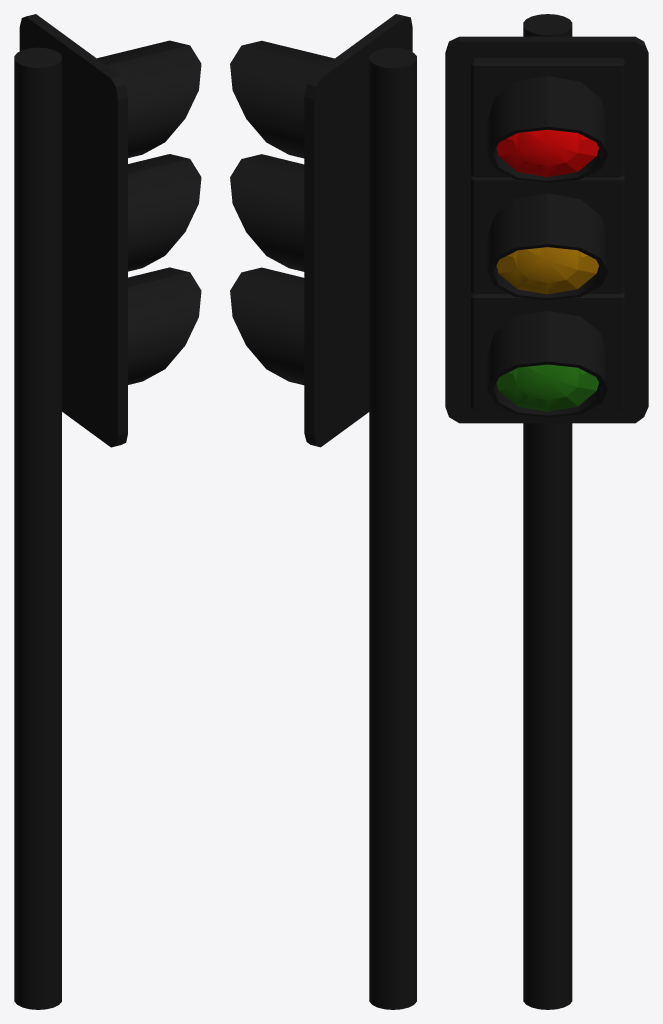
File: traffic_lamp.FBX
3 views of the same model, side by side, from view 1: azimuth 30°, elevation 25°; view 2: azimuth 150°, elevation 25°; view 3: azimuth 270°, elevation 25° (orthographic). The views are drawn at different scales.
Visible parts, largest first — view 1: Traffic_si001, Cylinder001; view 2: Traffic_si001, Cylinder001; view 3: Traffic_si001, Cylinder001.
Boxes of the visible parts, x1=… form: Traffic_si001: x1=19, y1=14, x2=201, y2=447; Cylinder001: x1=14, y1=47, x2=61, y2=1009; Traffic_si001: x1=230, y1=14, x2=412, y2=447; Cylinder001: x1=369, y1=48, x2=416, y2=1009; Traffic_si001: x1=445, y1=36, x2=648, y2=423; Cylinder001: x1=523, y1=14, x2=572, y2=1009.
Bounding box in the file's own units: 34.72 × 181 × 34.24.
